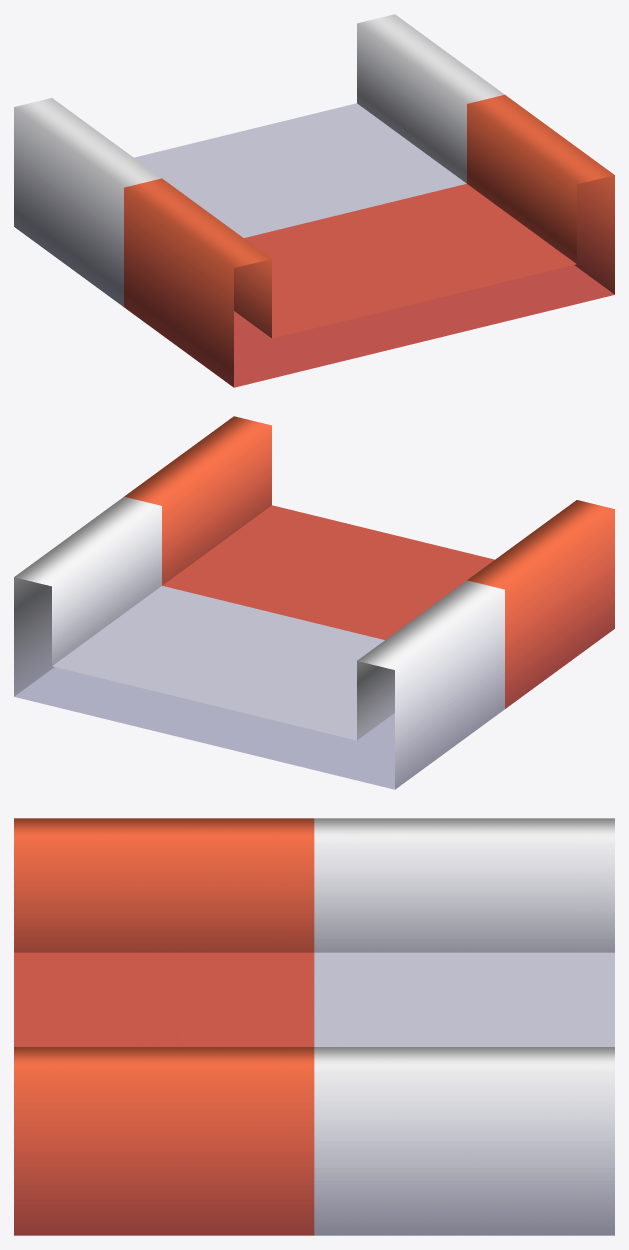
Rendered from track-striped-narrow.glb.
3 views of the same model, one above another, from view 1: azimuth 30°, elevation 25°; view 2: azimuth 150°, elevation 25°; view 3: azimuth 270°, elevation 25° (orthographic). The views are drawn at different scales.
Parts seen in each view (by area): view 1: track-striped-narrow; view 2: track-striped-narrow; view 3: track-striped-narrow.
Boxes of the visible parts, x1=… form: track-striped-narrow: x1=14, y1=14, x2=614, y2=387; track-striped-narrow: x1=14, y1=416, x2=614, y2=789; track-striped-narrow: x1=14, y1=818, x2=614, y2=1235.
Size of the model in its own units: 1 by 0.3 by 1.
1 material, 1 textured.
